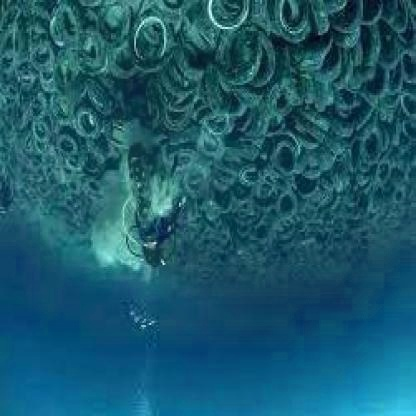tire: (184, 4, 414, 259), (2, 2, 182, 128), (1, 126, 98, 213)
